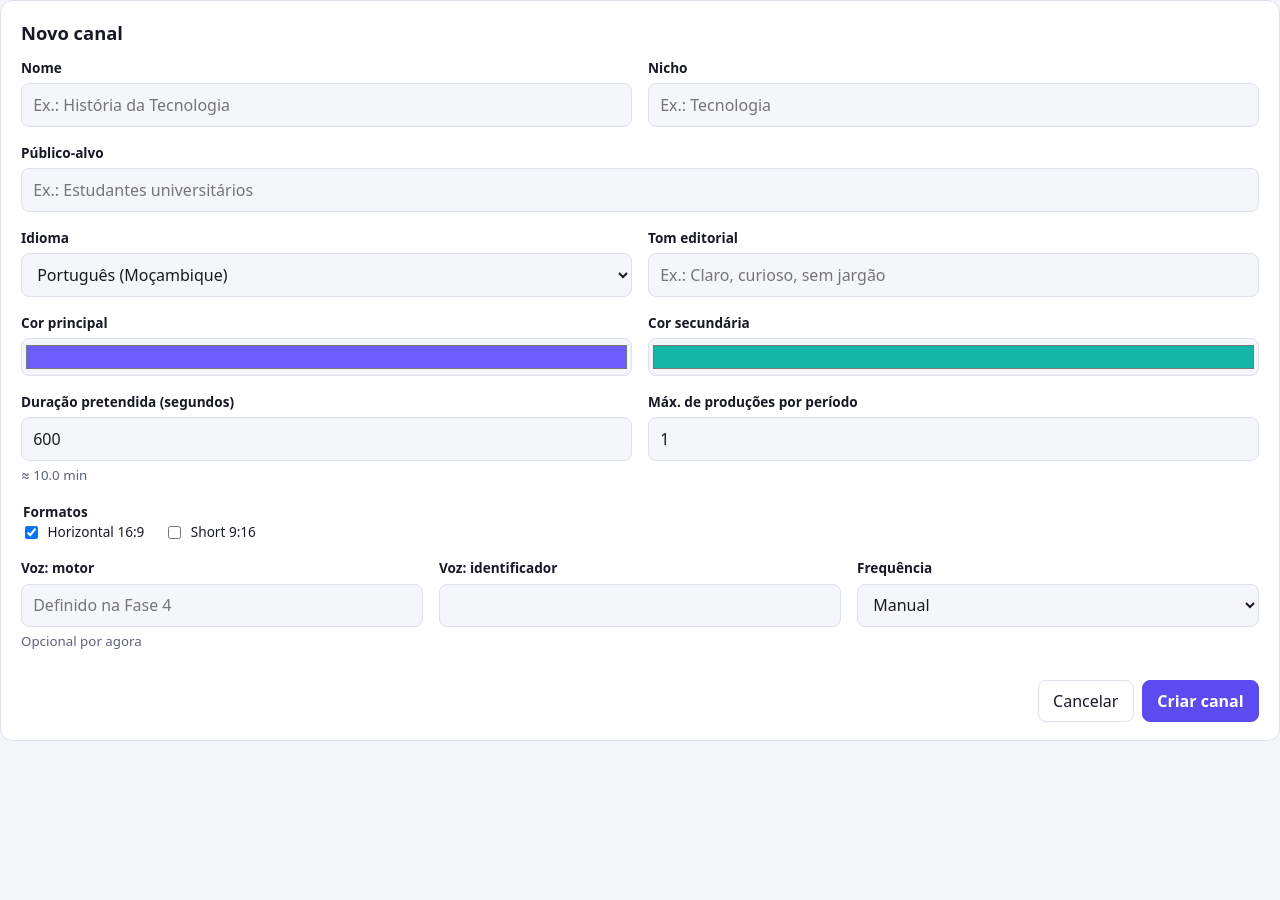
Test: ChannelForm › valida a duração mínima
This screenshot has width=1280, height=900.
Step 1. Type "A" into the field labelled "Nome" → (326, 105), box [21,83,632,127]
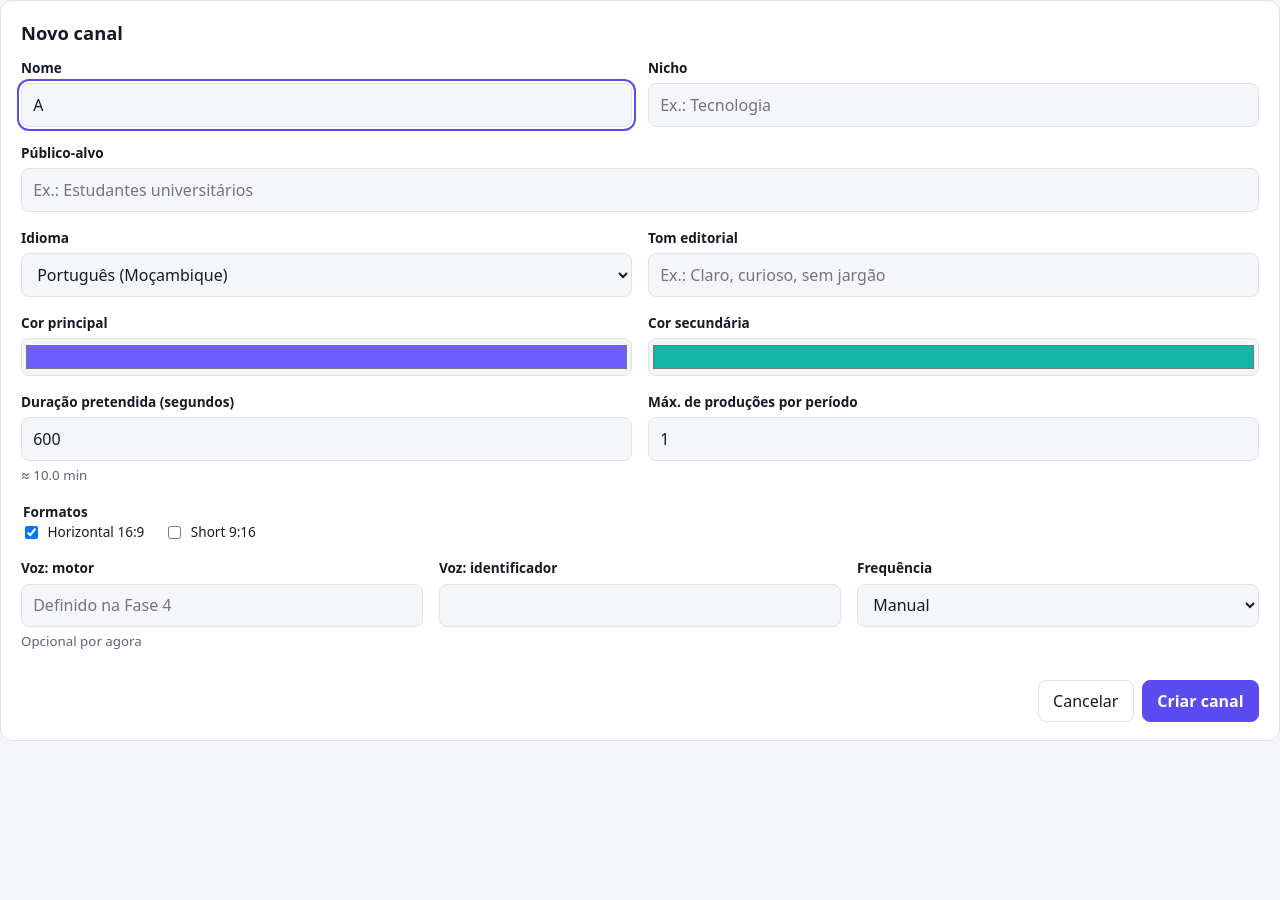
Step 2. Type "B" into the field labelled "Nicho" → (954, 105), box [648,83,1259,127]
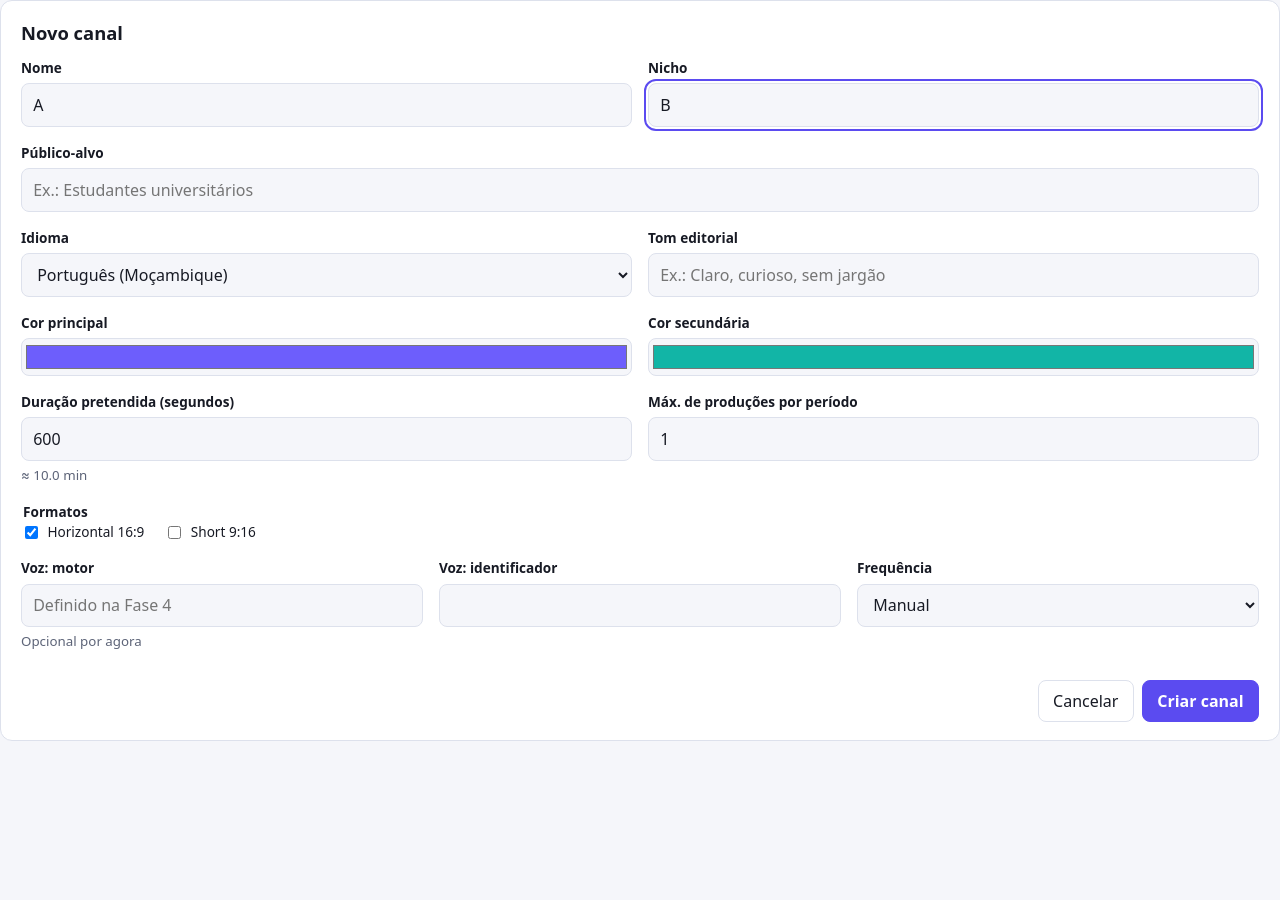
Step 3. Type "C" into the field labelled "Público-alvo" → (640, 190), box [21,168,1259,212]
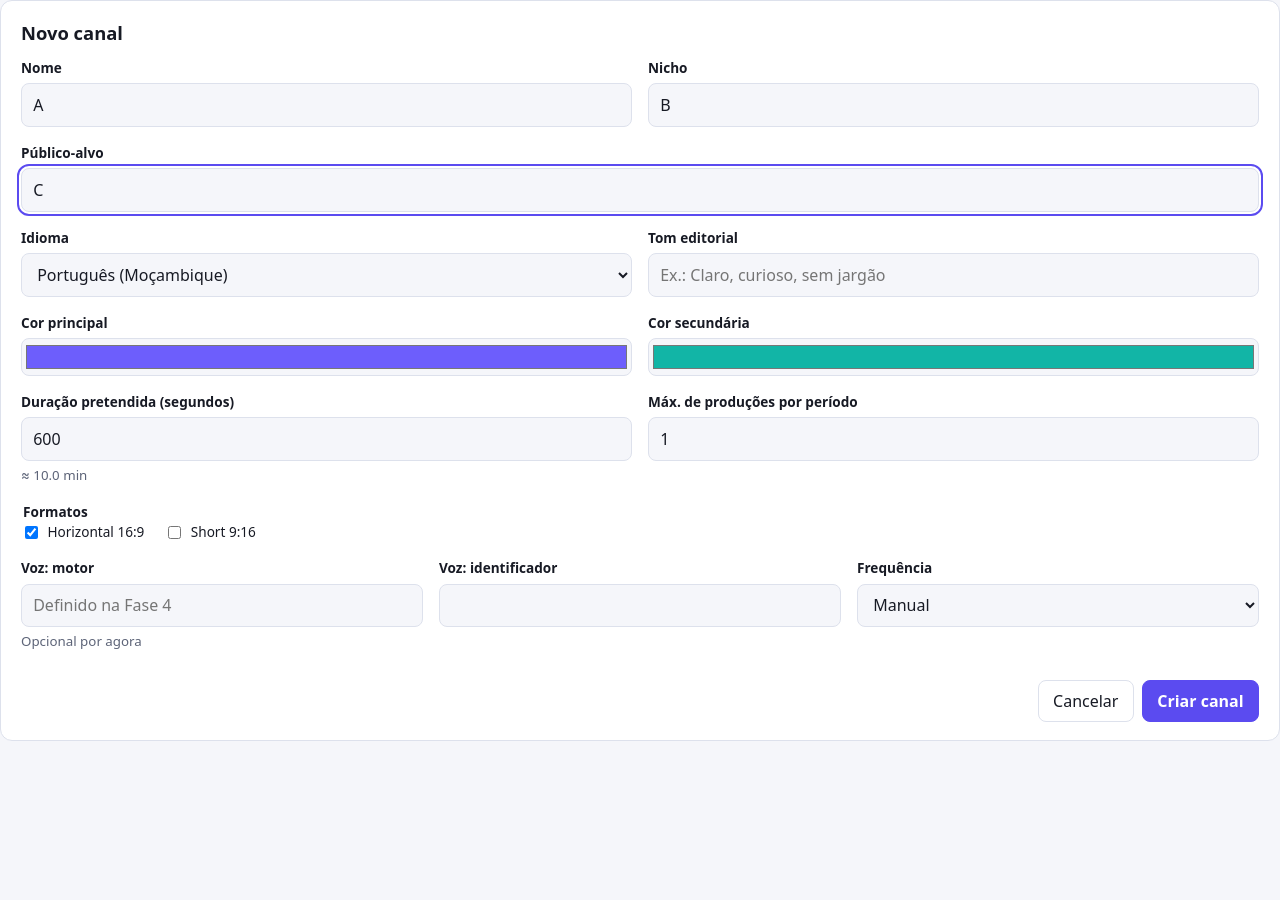
Step 4. Replace the text in the field labelled "Duração pretendida (segundos)" with "5" → (326, 439), box [21,417,632,461]
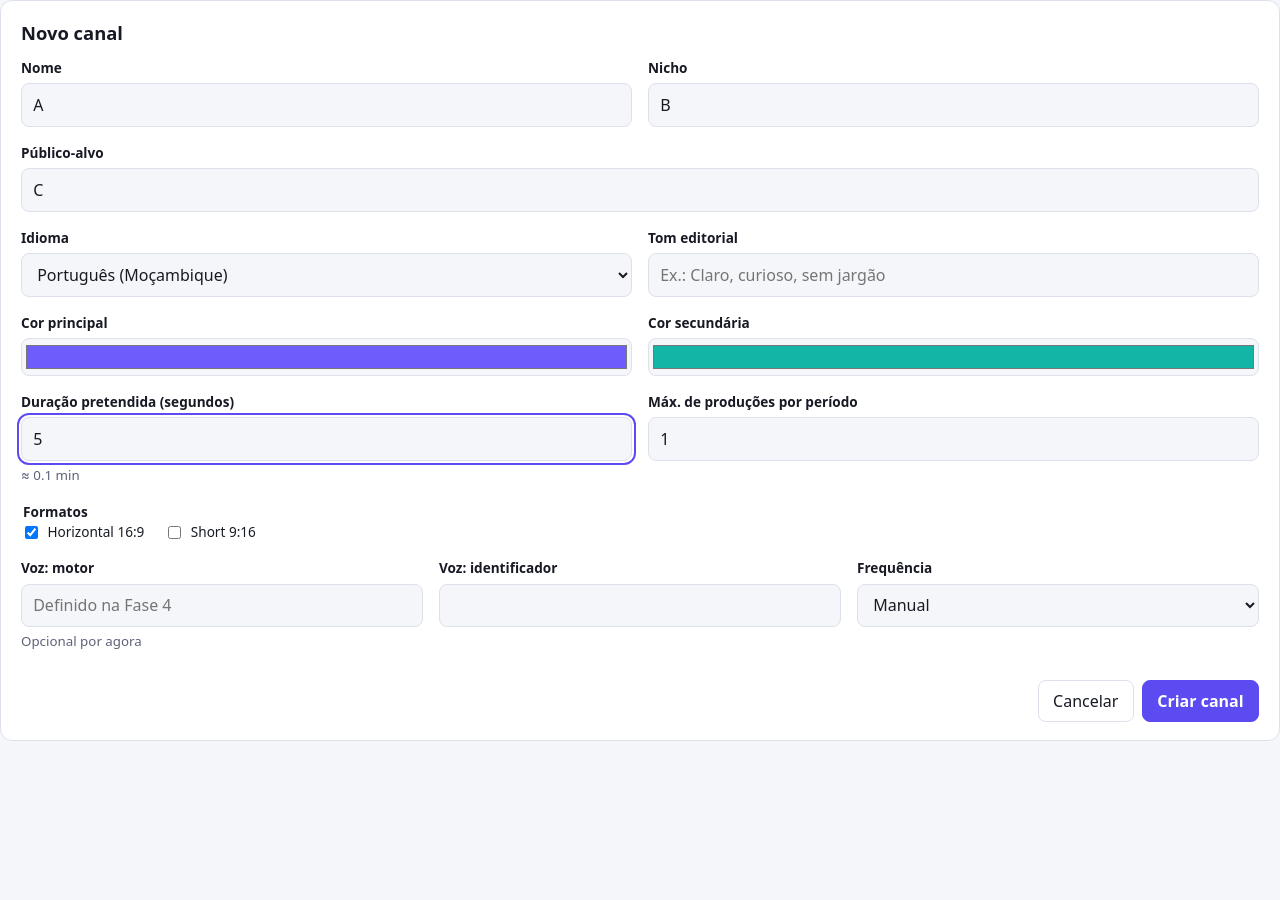
Step 5. Click the button "Criar canal" → click(1200, 701), box [1142,680,1259,722]
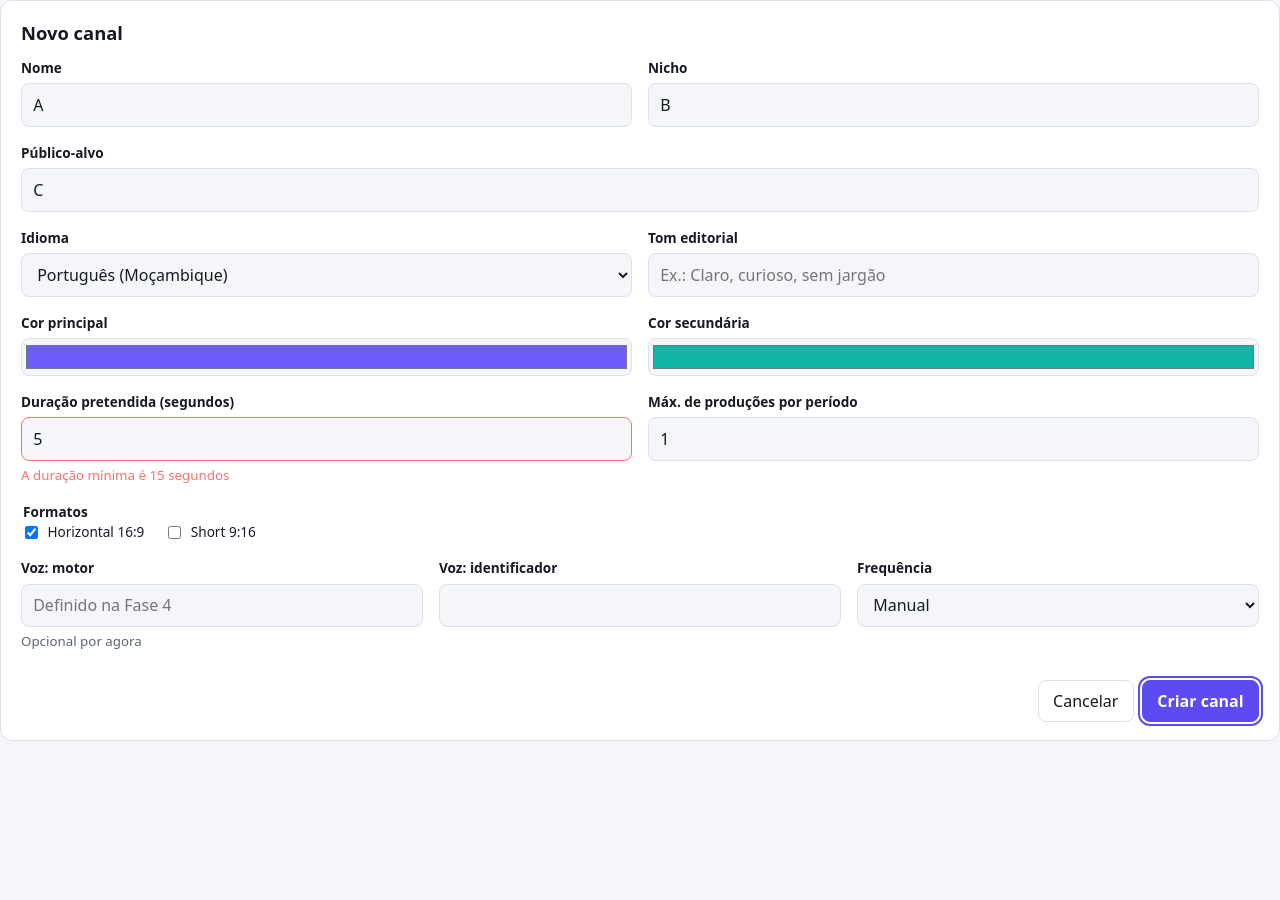
Result: the text "A duração mínima é 15 segundos" is shown at [21,466,229,484]
